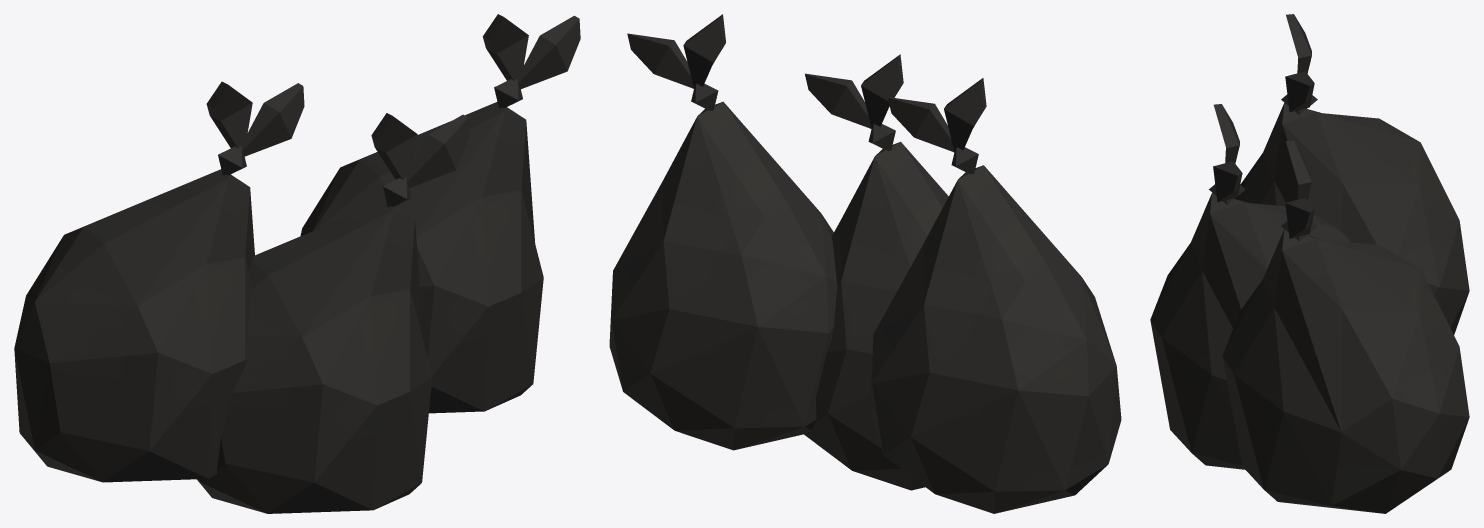
File: trashbags.fbx
3 views of the same model, side by side, from view 1: azimuth 30°, elevation 25°; view 2: azimuth 150°, elevation 25°; view 3: azimuth 270°, elevation 25° (orthographic). The views are drawn at different scales.
Parts seen in each view (by area): view 1: trashbags.007; view 2: trashbags.007; view 3: trashbags.007.
Boxes of the visible parts, <box> form: trashbags.007: <box>14,14,580,513</box>; trashbags.007: <box>609,14,1121,513</box>; trashbags.007: <box>1150,14,1469,513</box>.
Size of the model in its own units: 229 by 177 by 128.
